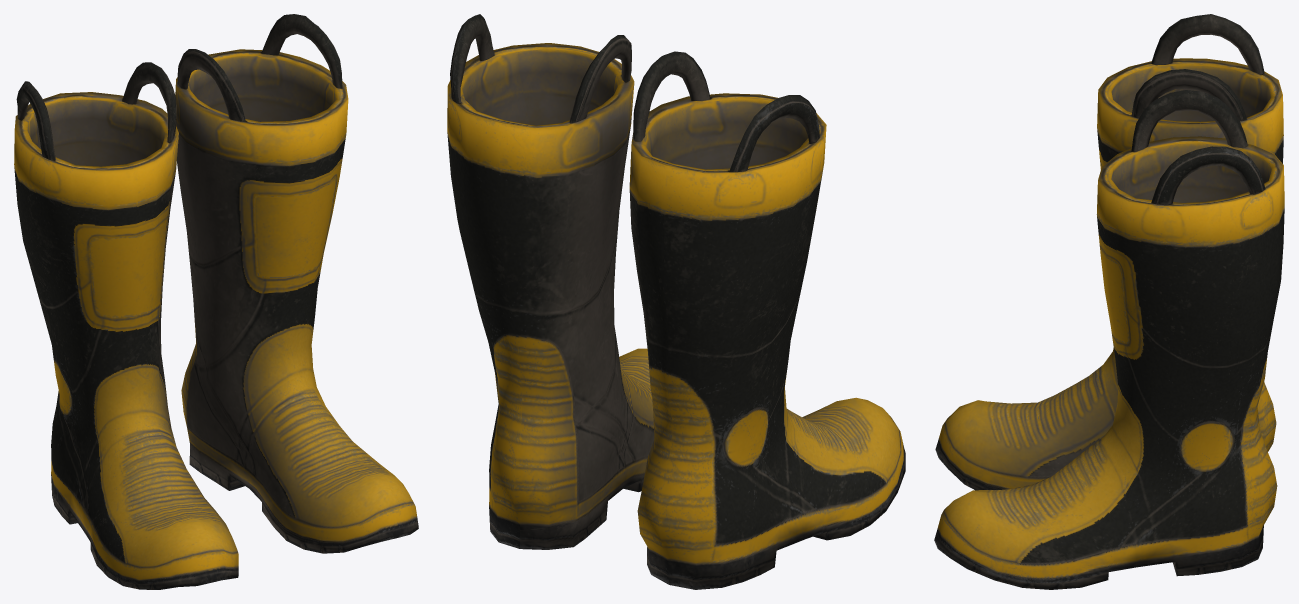
Rendered from Fire Boots.fbx.
The picture shows the model from 3 angles, left to right: view 1: azimuth 30°, elevation 25°; view 2: azimuth 150°, elevation 25°; view 3: azimuth 270°, elevation 25°; orthographic projection. The views are drawn at different scales.
Visible parts, largest first — view 1: Object_7; view 2: Object_7; view 3: Object_7.
Boxes of the visible parts, left/top/right/bottom form: Object_7: left=14, top=14, right=418, bottom=589; Object_7: left=447, top=14, right=905, bottom=589; Object_7: left=934, top=14, right=1284, bottom=589.
Size of the model in its own units: 462 by 635 by 453.
Materials: 1 (1 with a texture image).
